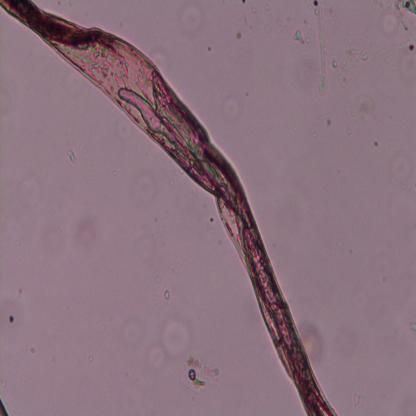Background material: (143, 317, 197, 367), (310, 0, 334, 96), (330, 35, 376, 85), (174, 356, 226, 395), (292, 315, 327, 362), (377, 0, 416, 37), (131, 171, 162, 206), (176, 2, 207, 36), (72, 216, 97, 256), (122, 320, 142, 352), (392, 150, 410, 184), (224, 94, 242, 119), (0, 385, 12, 416), (348, 390, 361, 408), (66, 145, 77, 163), (294, 30, 305, 43), (164, 290, 174, 301), (232, 30, 242, 40), (6, 314, 14, 324), (411, 38, 416, 50)
Cotton: (0, 0, 335, 416)
